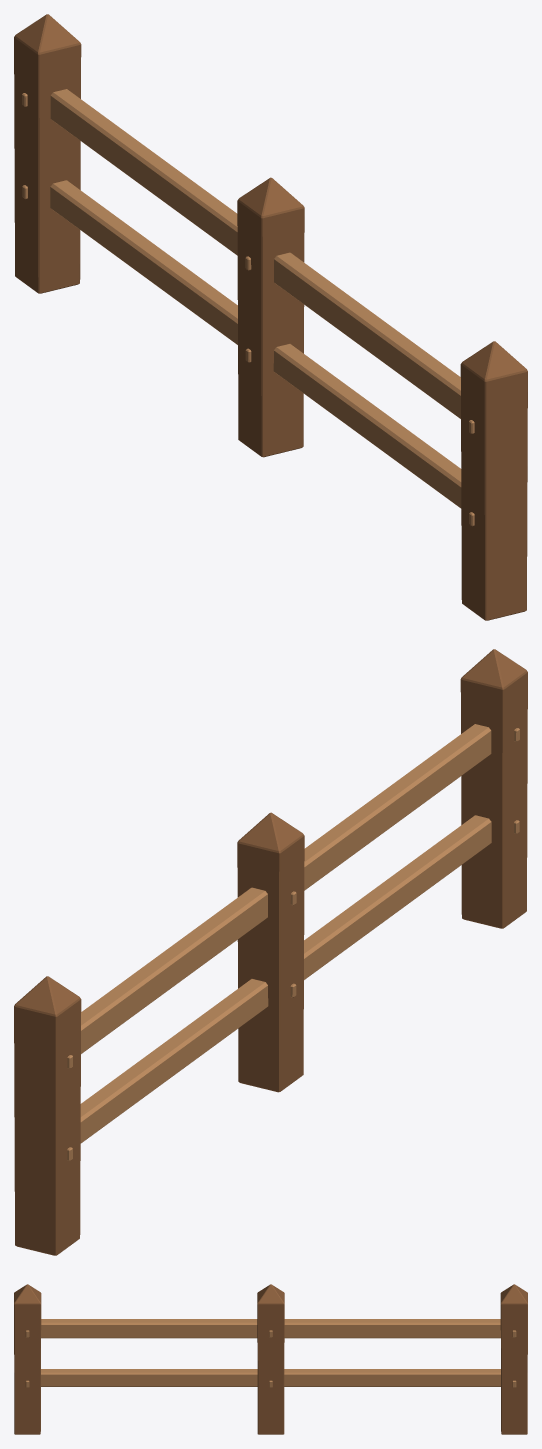
Rendered from RusticRailFence.fbx.
3 renders of one model, top to bottom at view 1: azimuth 30°, elevation 25°; view 2: azimuth 150°, elevation 25°; view 3: azimuth 270°, elevation 25°, orthographic. The views are drawn at different scales.
Parts seen in each view (by area): view 1: RusticRailFence; view 2: RusticRailFence; view 3: RusticRailFence.
Boxes of the visible parts, box(x1,y1,x2,y2) form: RusticRailFence: box(14, 14, 527, 620); RusticRailFence: box(14, 649, 527, 1255); RusticRailFence: box(14, 1284, 527, 1434).
Bounding box in the file's own units: 25.25 × 132 × 422.
